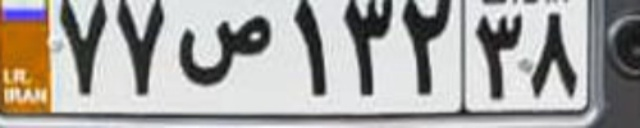1: (290, 0, 324, 94)
2: (400, 0, 448, 96)
3: (340, 0, 395, 95), (474, 11, 525, 99)
7: (113, 0, 166, 96), (57, 0, 110, 95)
8: (529, 11, 577, 100)
saat: (177, 14, 272, 87)
